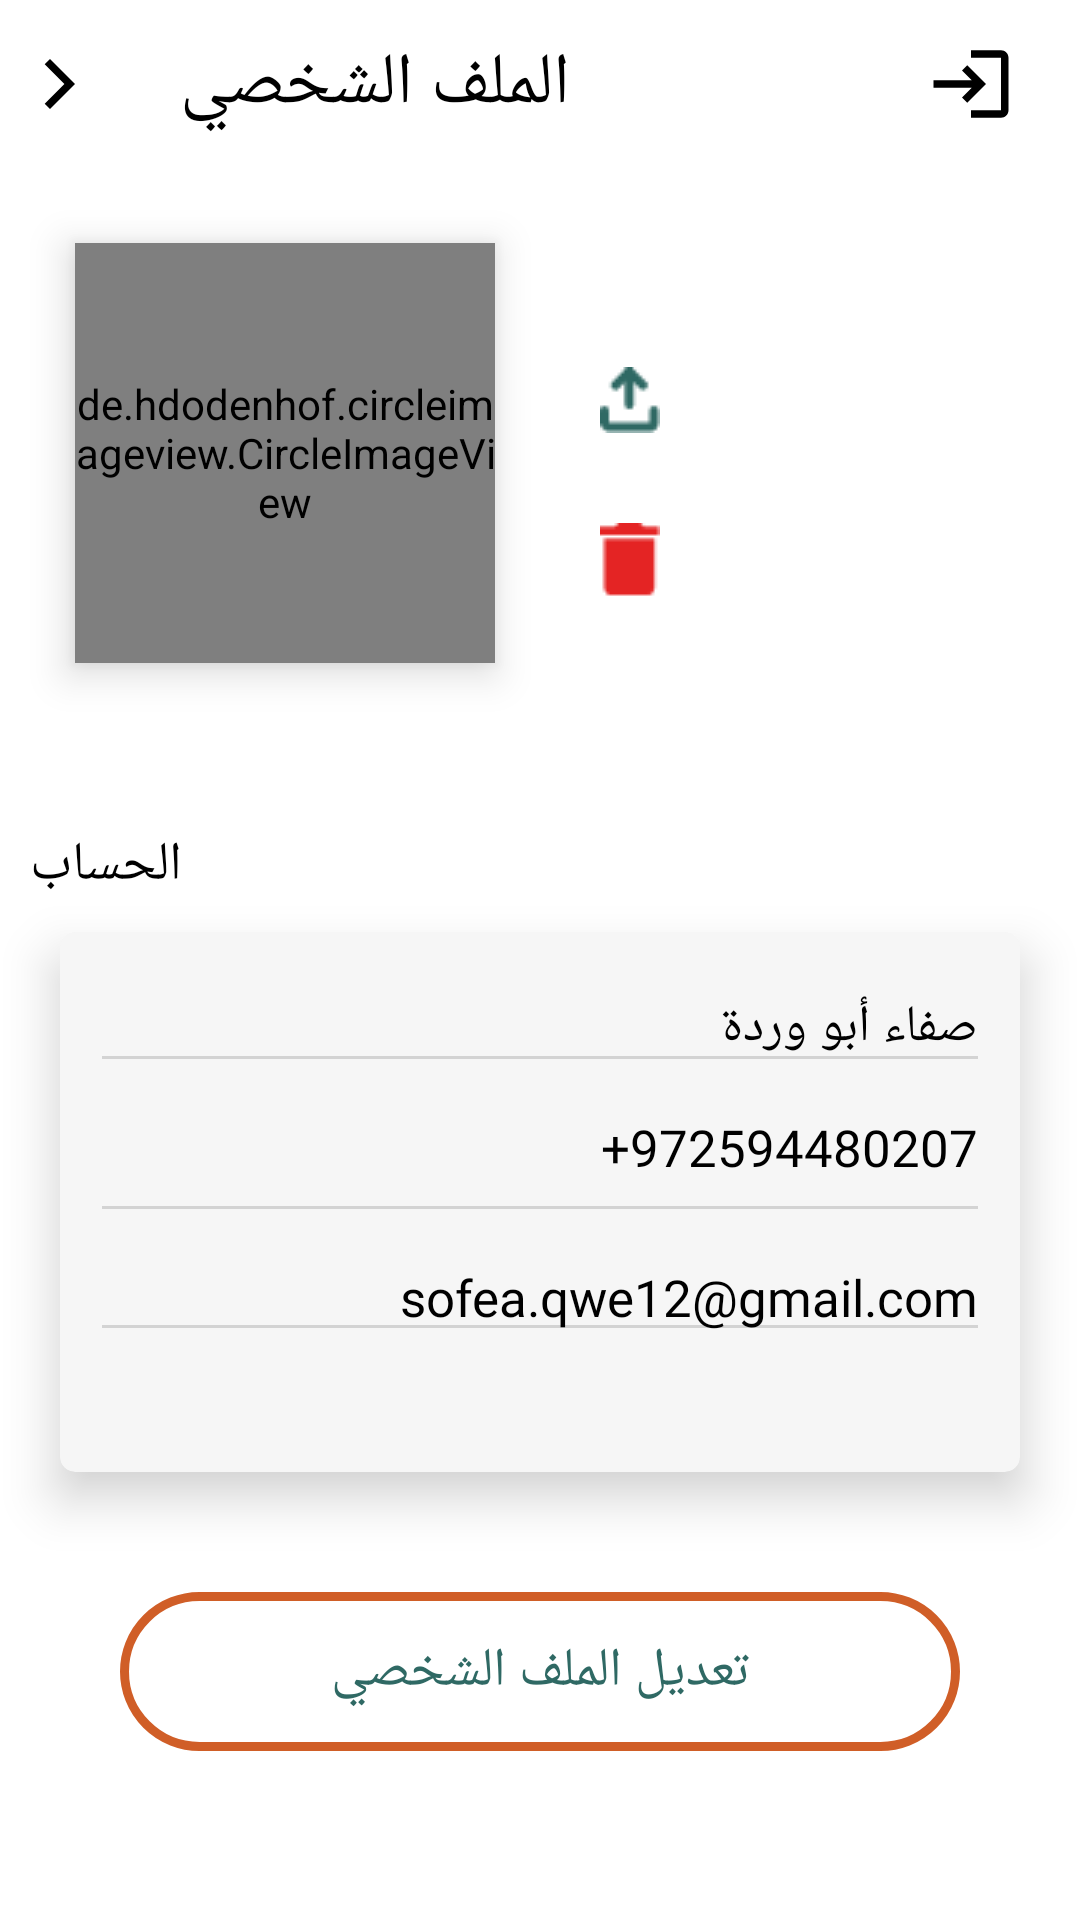

Icons on this 1080px x 1920px Android screen, each with the point to tap as (x=x, y=y):
arrow forward: (x=60, y=84)
deletefilled: (x=630, y=559)
login: (x=971, y=84)
